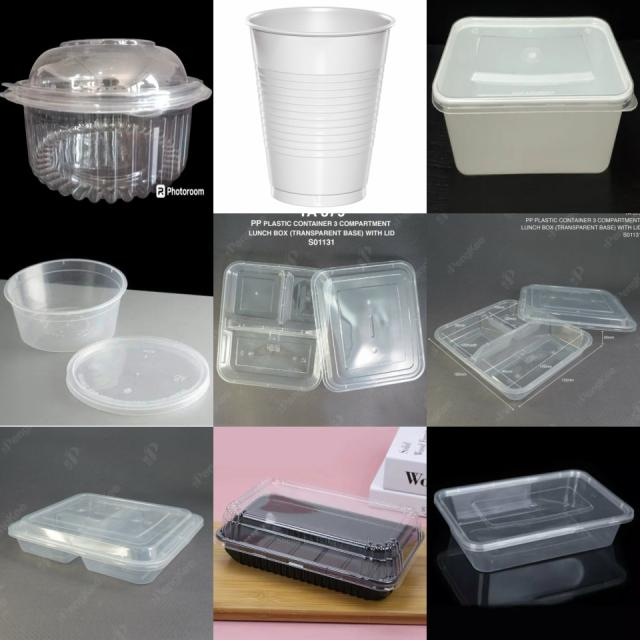Single-Use-Plastic: (1, 39, 211, 203), (432, 18, 636, 175), (248, 8, 395, 207), (216, 479, 424, 598), (434, 470, 634, 572), (9, 492, 204, 584), (218, 261, 341, 391), (435, 300, 592, 399), (311, 261, 425, 391), (4, 259, 128, 352), (66, 336, 210, 414), (518, 284, 636, 332)
